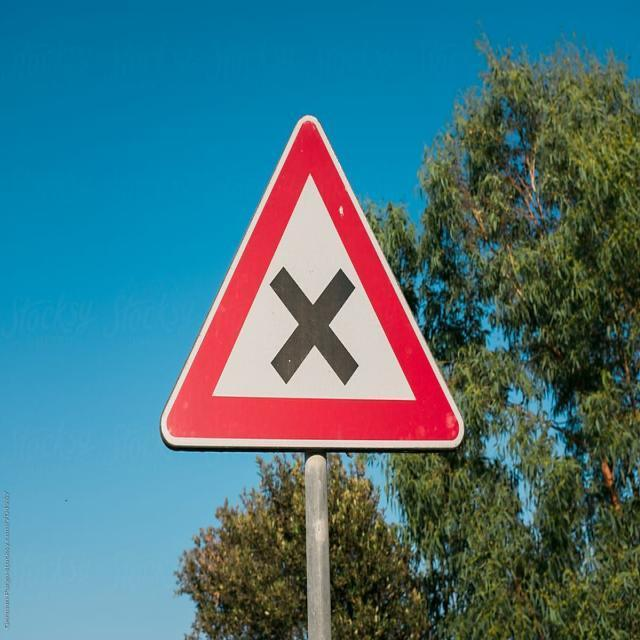cross road: (153, 113, 466, 458)
